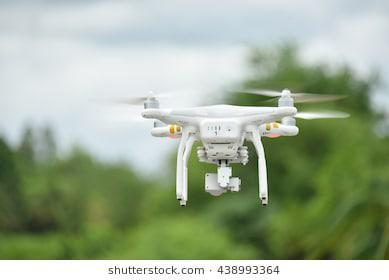drone: (98, 42, 364, 229)
